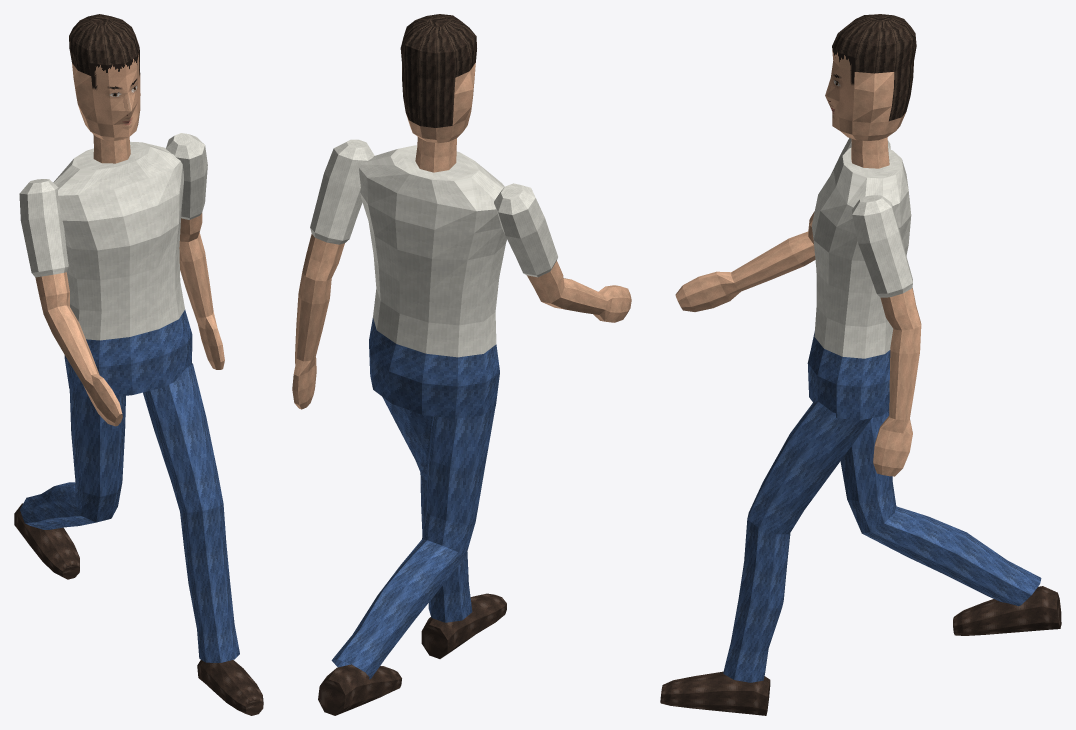
File: walk_07.obj
3 views of the same model, side by side, from view 1: azimuth 30°, elevation 25°; view 2: azimuth 150°, elevation 25°; view 3: azimuth 270°, elevation 25° (orthographic). The views are drawn at different scales.
Bounding box in the file's own units: 0.6195 × 1.79 × 0.9759.
25 materials, 25 textured.
